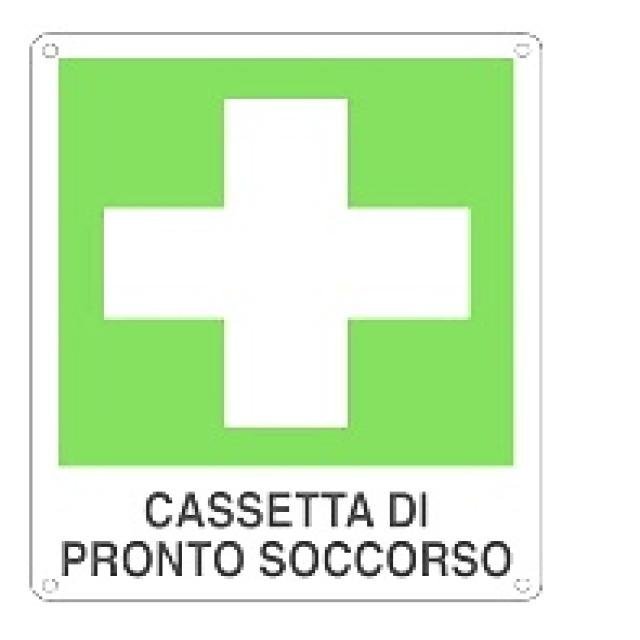first-aid: (56, 57, 516, 469)
